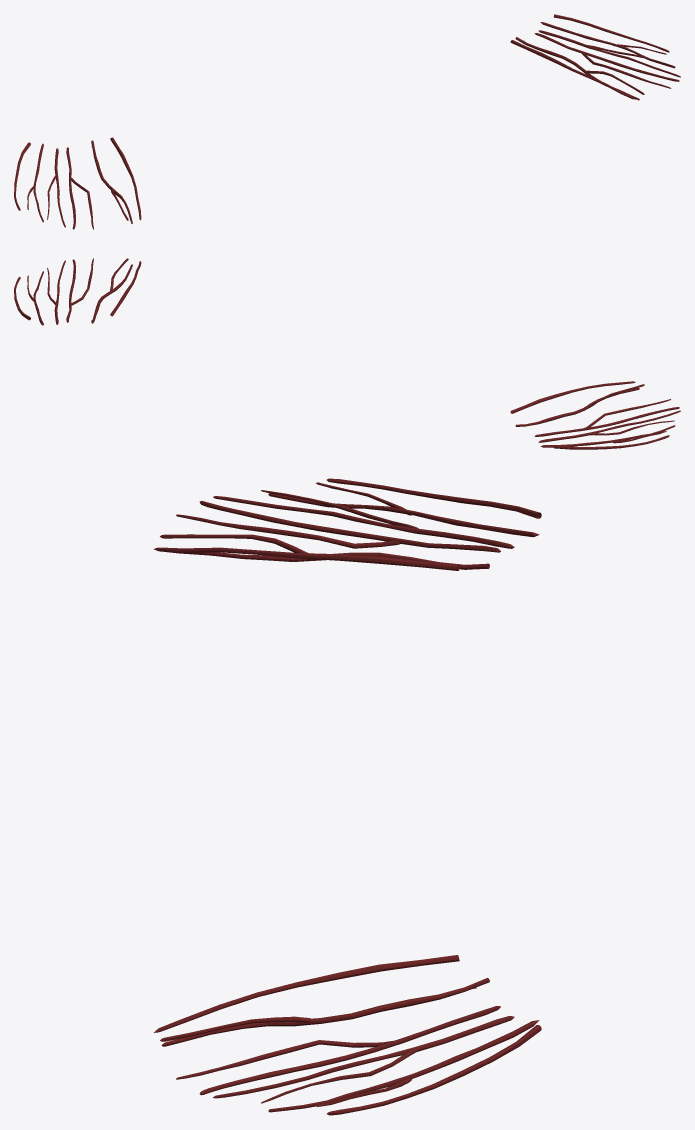
The model's file is Artérias Digitales Plantares.FBX.
3 renders of one model, top to bottom at view 1: azimuth 30°, elevation 25°; view 2: azimuth 150°, elevation 25°; view 3: azimuth 270°, elevation 25°, orthographic. The views are drawn at different scales.
Visible parts, largest first — view 1: CS_Arterie; view 2: CS_Arterie; view 3: CS_Arterie.
Boxes of the visible parts, x1,y1,x2,y2 form: CS_Arterie: [14, 14, 680, 229]; CS_Arterie: [14, 258, 680, 449]; CS_Arterie: [153, 478, 541, 1115].
Size of the model in its own units: 1913 by 64.17 by 495.
